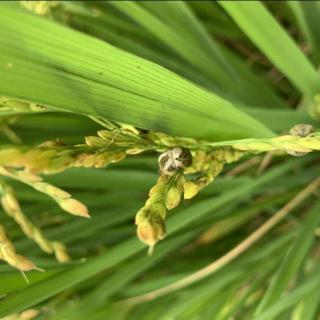Gosong-Palsu: (157, 144, 194, 178), (284, 122, 316, 160)
